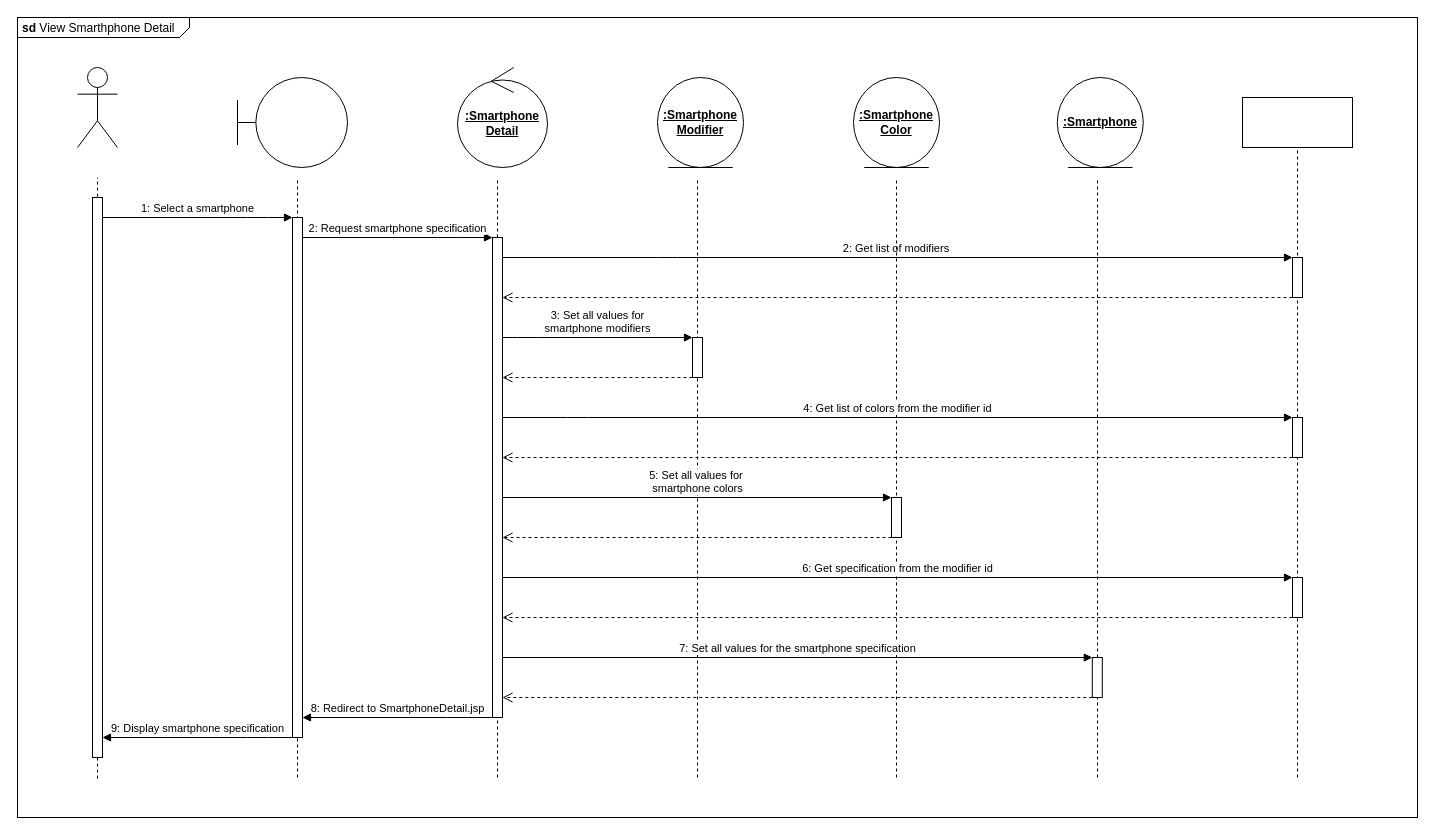
The diagram is 1435 pixels wide and 835 high, and some of its shapes have lost their labels. Each missing label, with the centre of its shape:
":Tomcat Server" goes at point (292, 122).
"User" goes at point (97, 107).
"«database» :Smartphone" goes at point (1297, 122).
